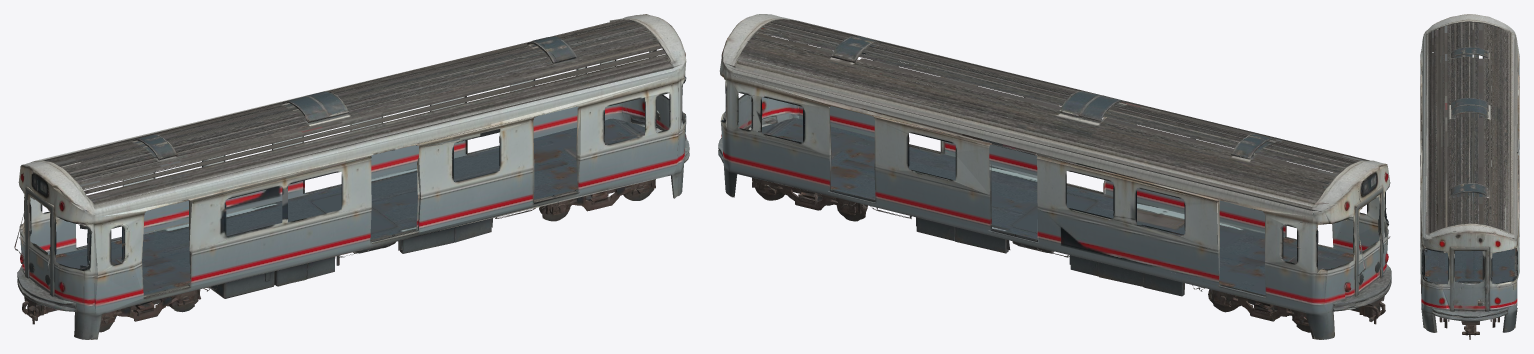
File: player-train-shell.glb
The picture shows the model from 3 angles, left to right: view 1: azimuth 30°, elevation 25°; view 2: azimuth 150°, elevation 25°; view 3: azimuth 270°, elevation 25°; orthographic projection. The views are drawn at different scales.
Visible parts, largest first — view 1: player-train-shell; view 2: player-train-shell; view 3: player-train-shell.
Part boxes in pixels (x1,y1,x2,y2): player-train-shell: [14, 14, 689, 339]; player-train-shell: [718, 14, 1391, 339]; player-train-shell: [1420, 14, 1519, 339].
Size of the model in its own units: 16.2 by 3.85 by 2.99.
1 material, 1 textured.
